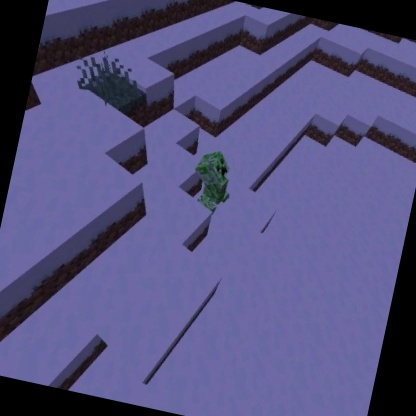creeper: (184, 144, 241, 217)
